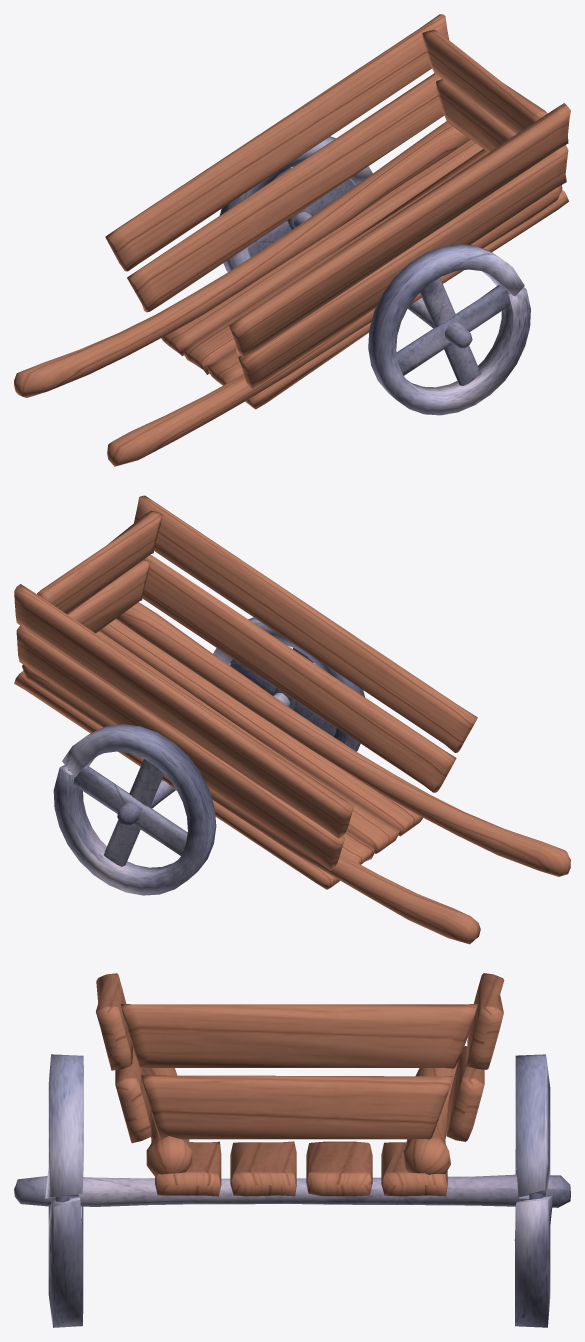
The model's file is cart.fbx.
3 views of the same model, one above another, from view 1: azimuth 30°, elevation 25°; view 2: azimuth 150°, elevation 25°; view 3: azimuth 270°, elevation 25° (orthographic). The views are drawn at different scales.
Visible parts, largest first — view 1: cart; view 2: cart; view 3: cart.
Part boxes in pixels (left/top/right/bottom): cart: left=14, top=14, right=570, bottom=466; cart: left=14, top=495, right=570, bottom=944; cart: left=14, top=973, right=570, bottom=1327.
Bounding box in the file's own units: 87.12 × 47.77 × 58.96.
Materials: 1 (1 with a texture image).
